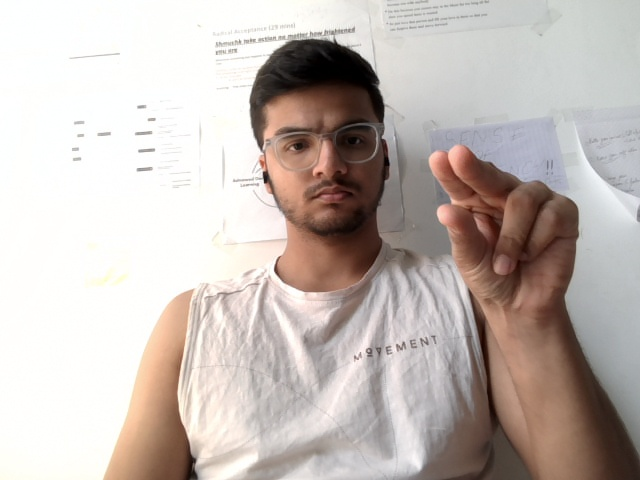no: (403, 132, 586, 341)
